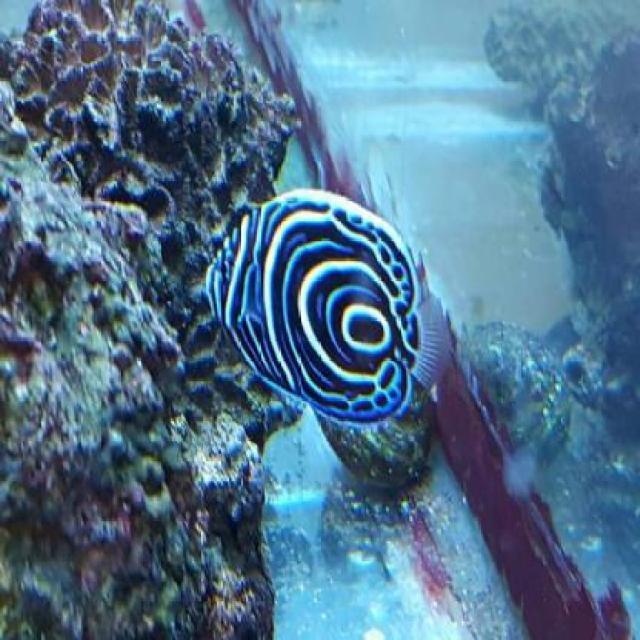AngelFish: (212, 188, 442, 424)
